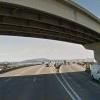Bridge: (4, 0, 97, 45)
